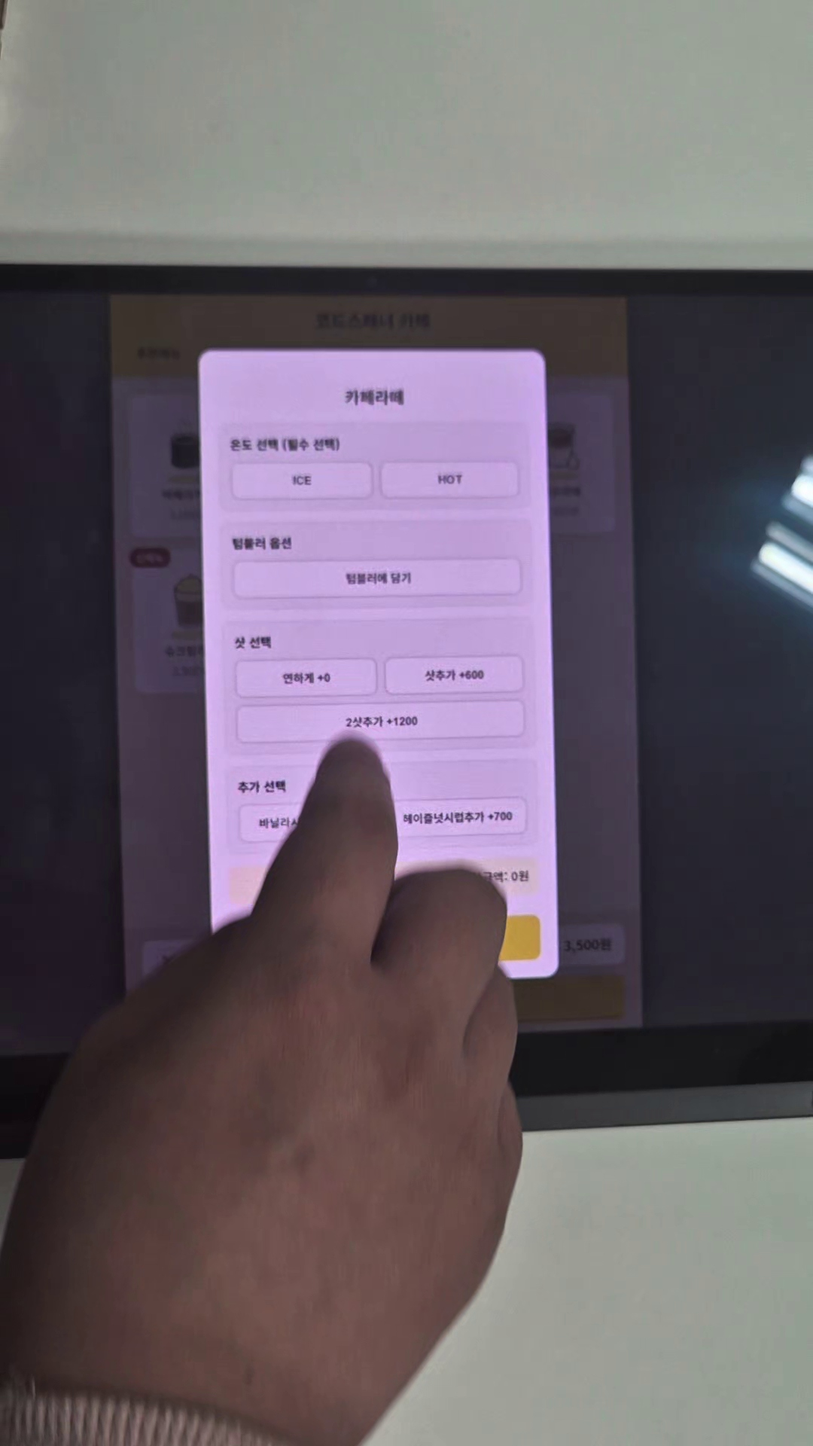menu_name: (346, 386, 405, 408)
option_button: (237, 701, 525, 740), (237, 559, 518, 594), (387, 657, 523, 693), (381, 462, 518, 497), (239, 660, 375, 694), (392, 800, 526, 834), (234, 461, 371, 494), (240, 803, 358, 838)
popup_modal: (201, 352, 559, 977)
